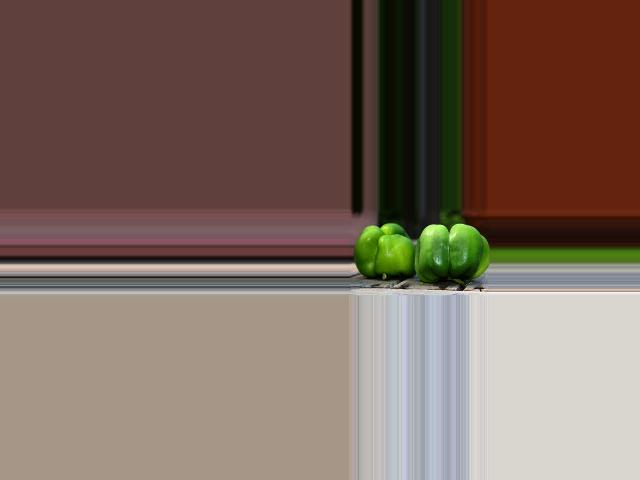bell_pepper: (351, 220, 416, 283)
